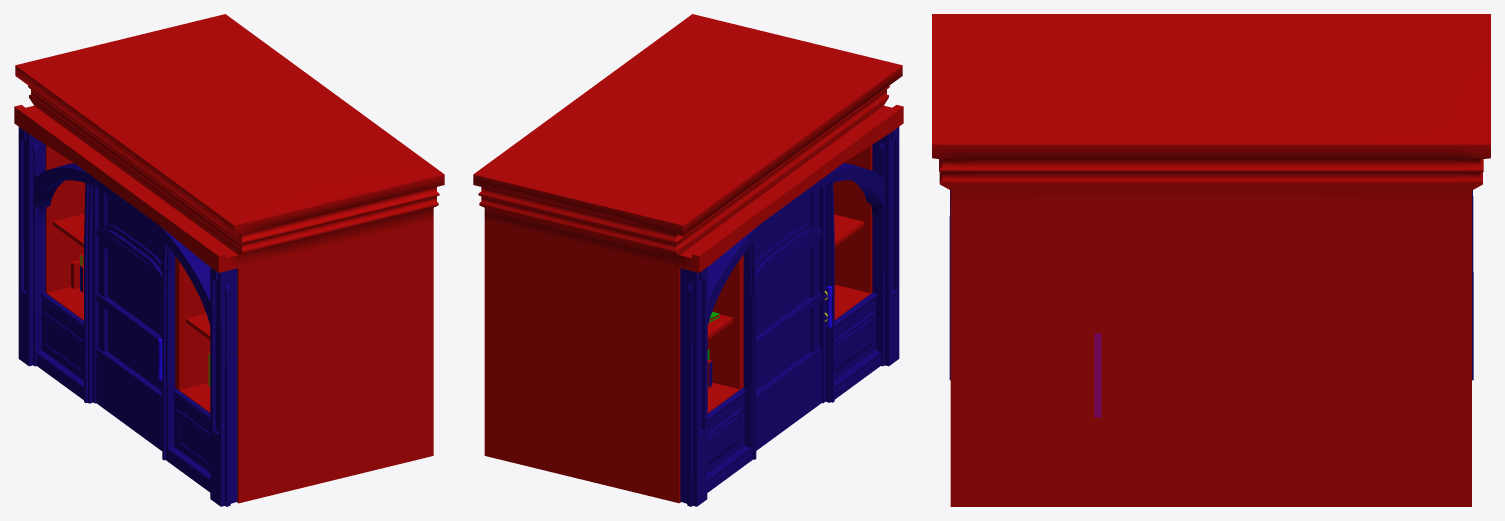
Rendered from BookShop_Done.fbx.
3 renders of one model, left to right at view 1: azimuth 30°, elevation 25°; view 2: azimuth 150°, elevation 25°; view 3: azimuth 270°, elevation 25°, orthographic. The views are drawn at different scales.
Parts seen in each view (by area): view 1: Book_Shop; view 2: Book_Shop; view 3: Book_Shop.
Part boxes in pixels (x1,y1,x2,y2): Book_Shop: (14, 14, 444, 506); Book_Shop: (473, 14, 903, 506); Book_Shop: (932, 14, 1490, 506).
Bounding box in the file's own units: 89.7 × 112 × 156.
